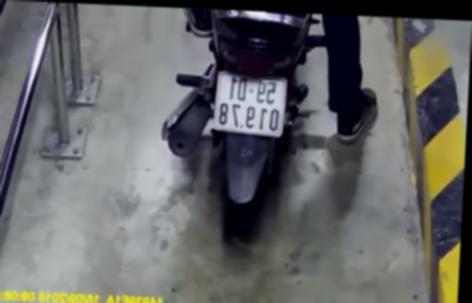License_Plate: (208, 73, 295, 140)
